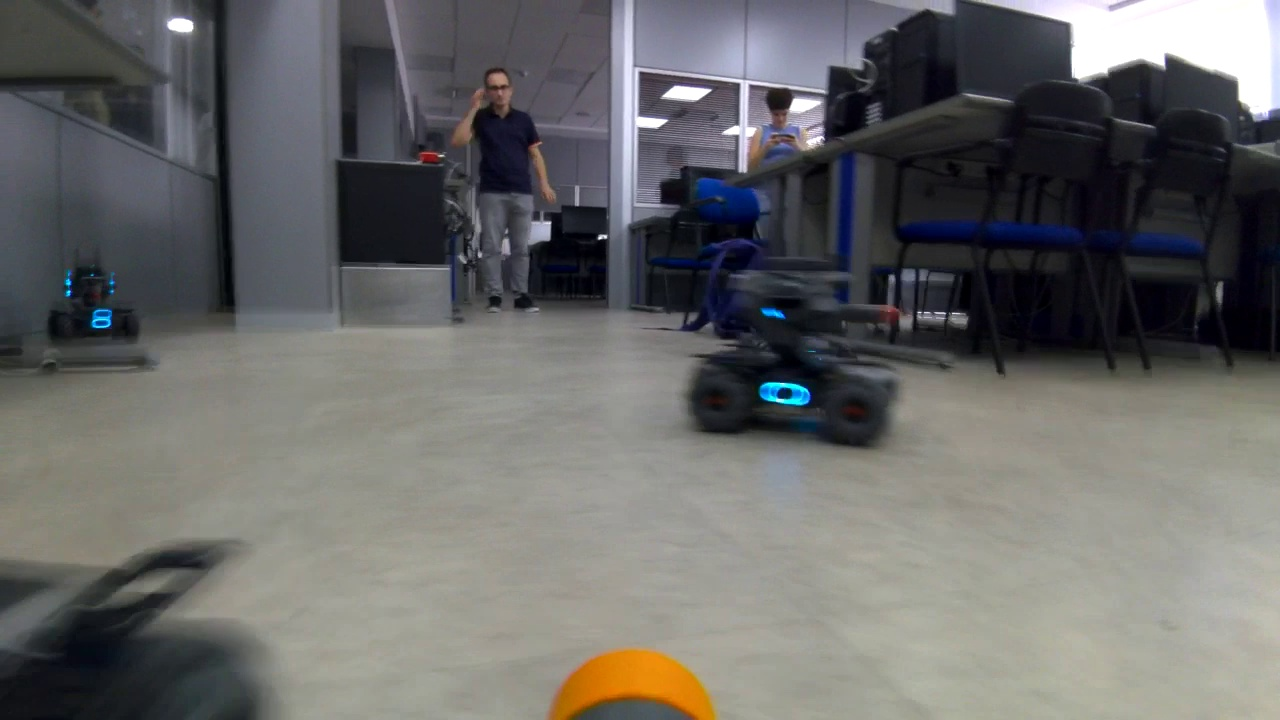robot: (672, 269, 929, 445)
